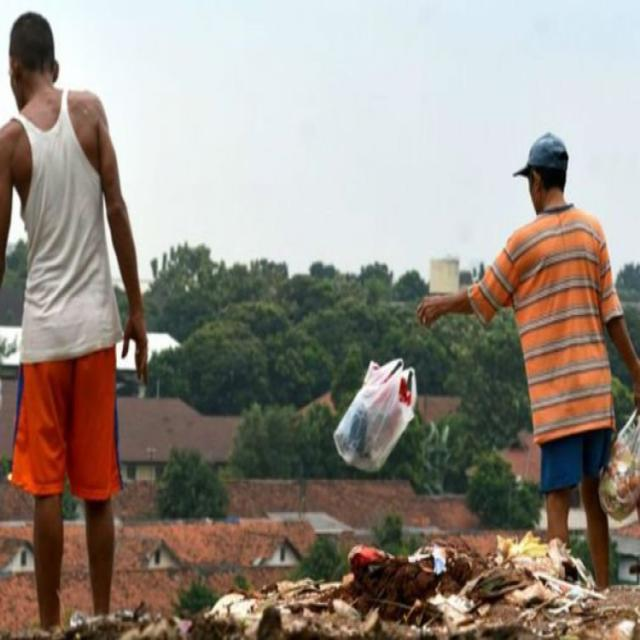sampah-detection: (333, 356, 419, 476), (597, 407, 640, 524)
